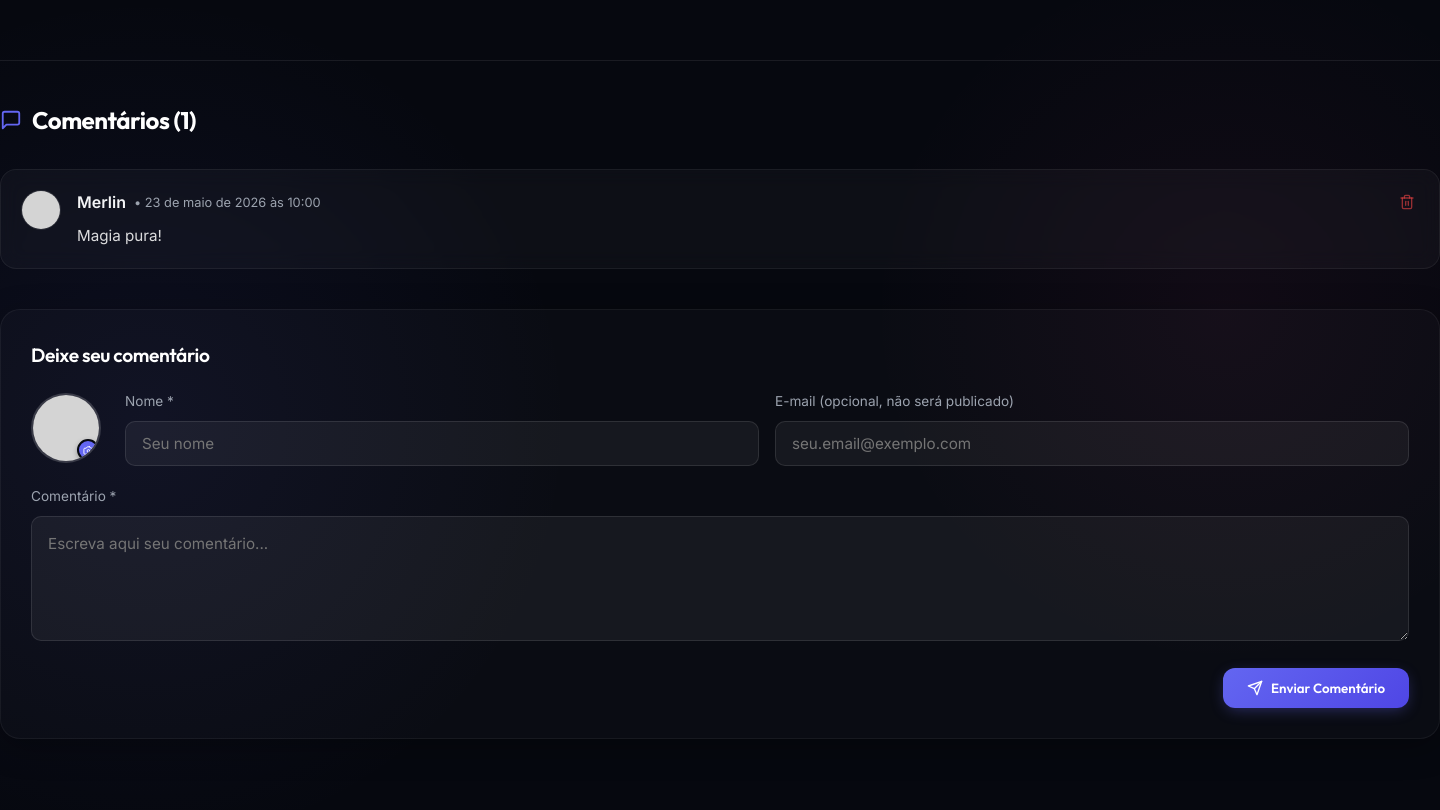
Test: CommentsSection Component › renders delete button for admin and opens confirmation modal on click
Check: the text "Merlin" is shown, box [77,190,126,216]
Click the button titled "Excluir Comentário". click: (1407, 202)
box: [1395,190,1419,214]
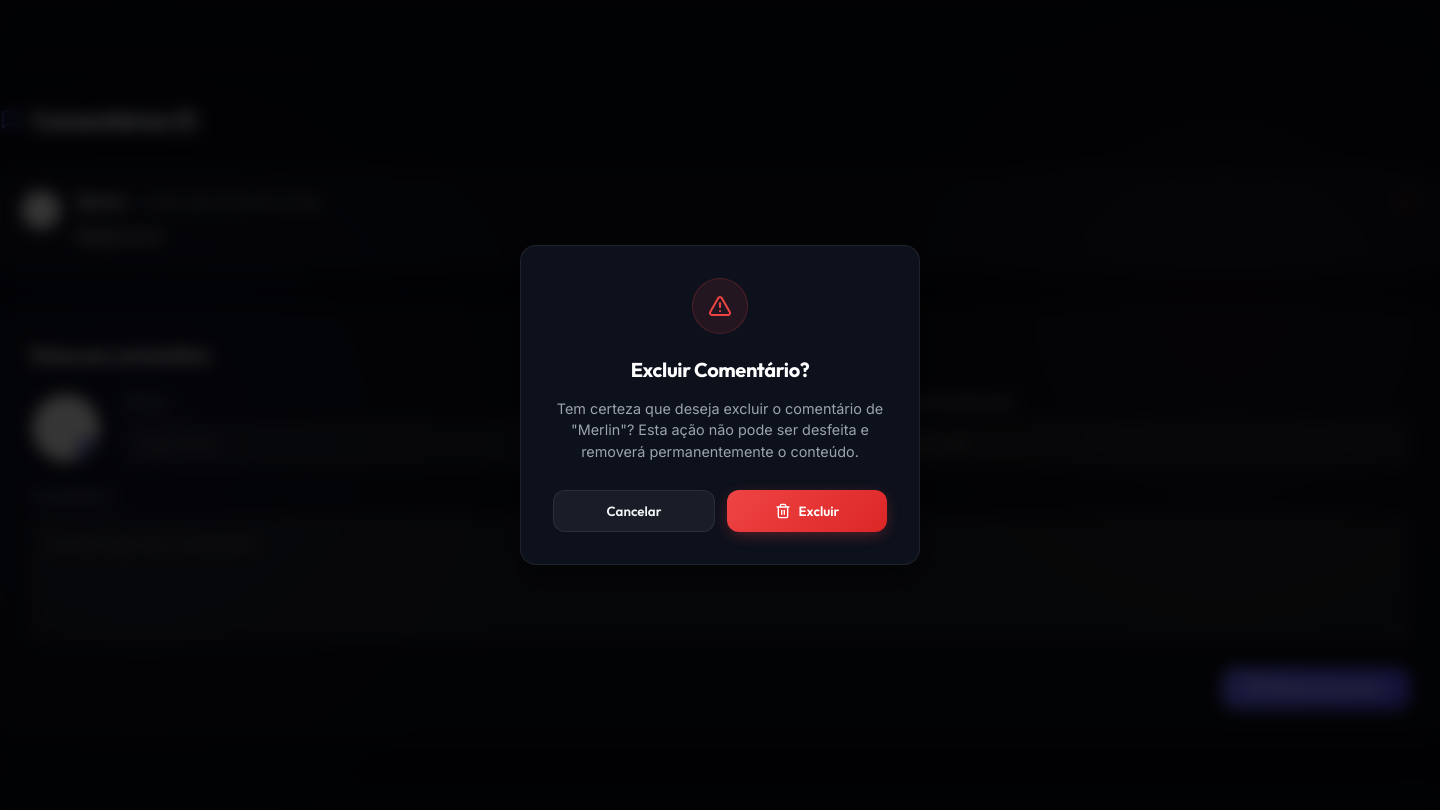
Check: the heading "Excluir Comentário?" is shown, box [631,357,809,382]
Click the button "Cancelar". click: (634, 511)
box: [553,490,715,532]
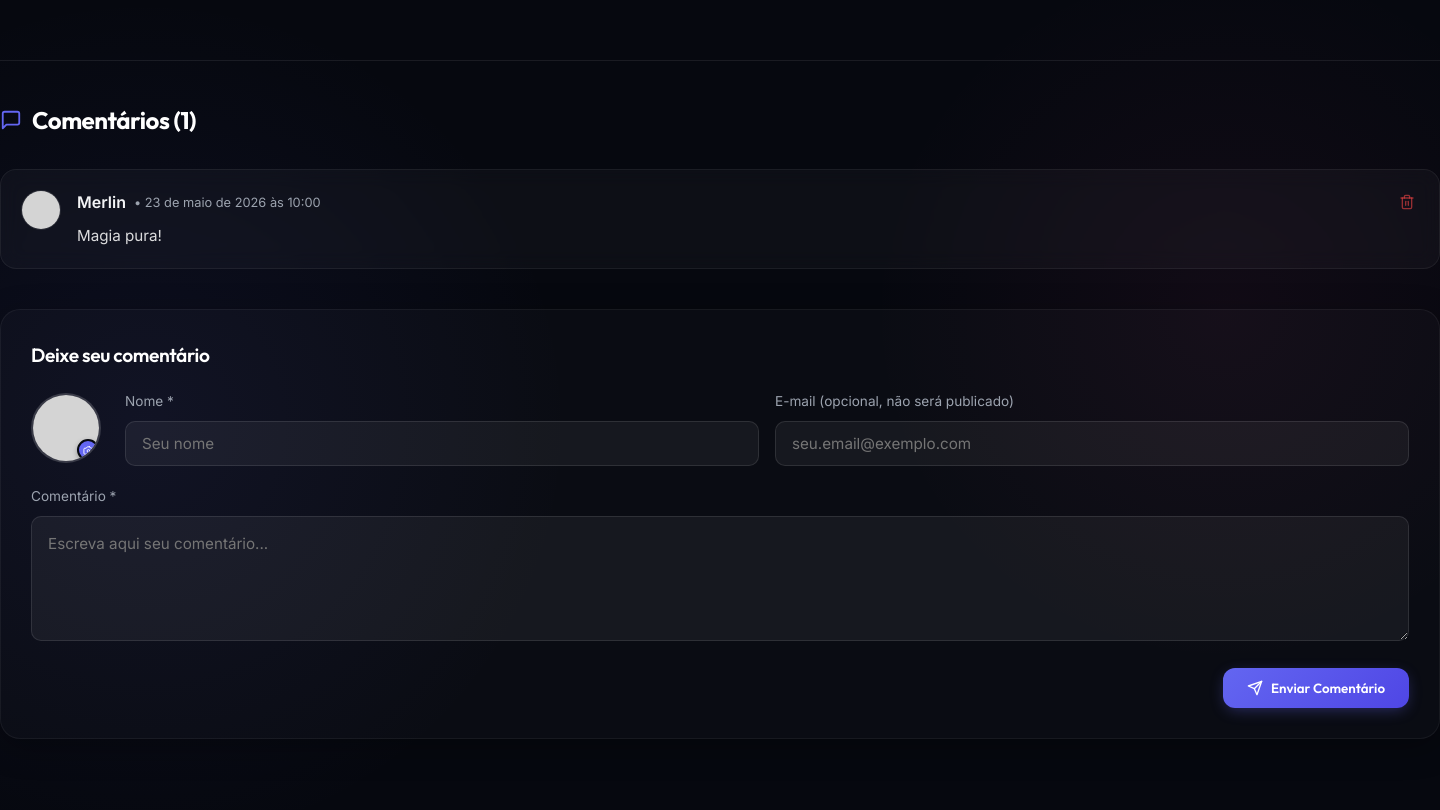
Check: the heading "Excluir Comentário?" is gone
Click the button titled "Excluir Comentário". click: (1407, 202)
box: [1395,190,1419,214]
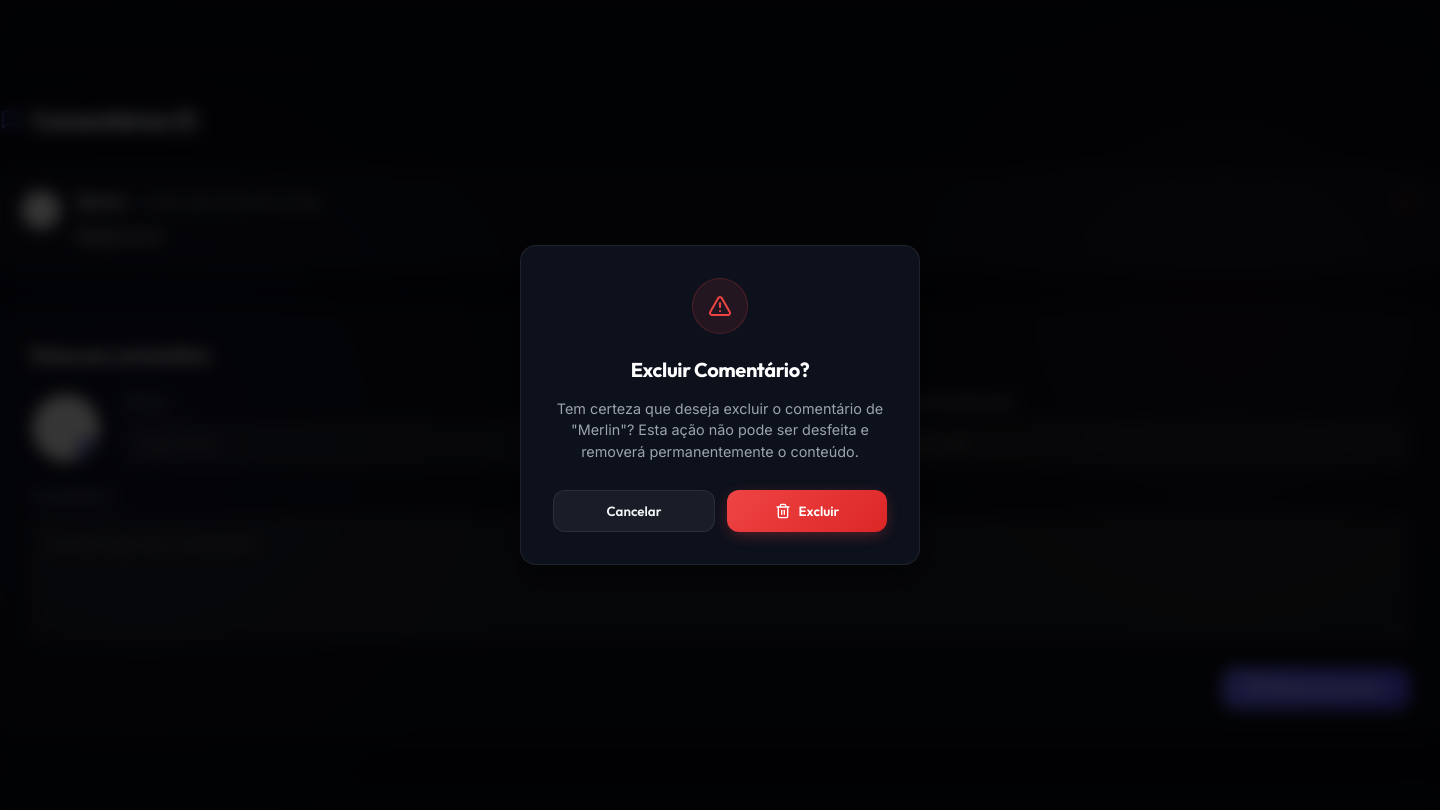
Click the button "Excluir". click: (807, 511)
box: [727,490,887,532]
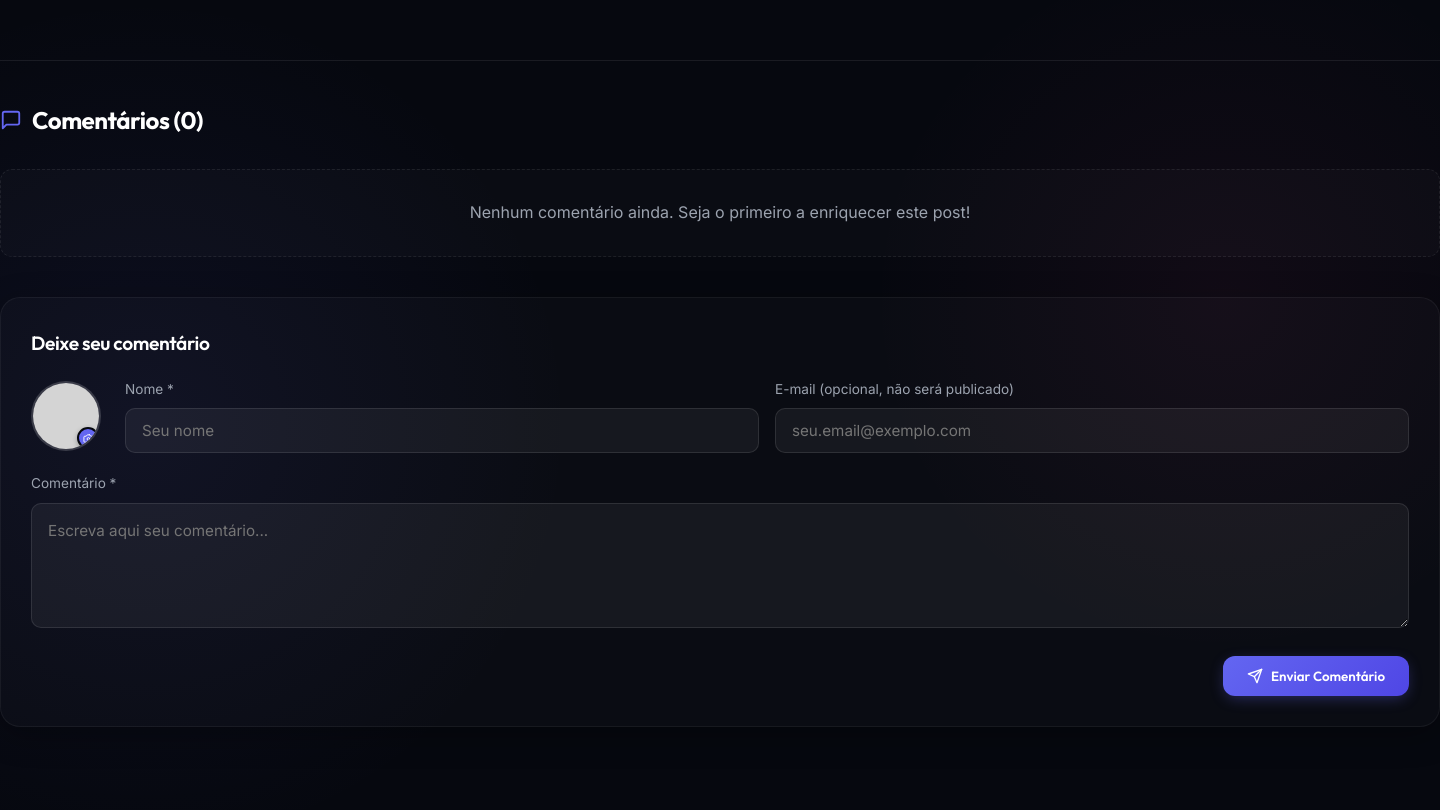
Check: the text "Nenhum comentário ainda. Seja o primeiro a enriquecer este post!" is shown, box [0,169,1439,257]
